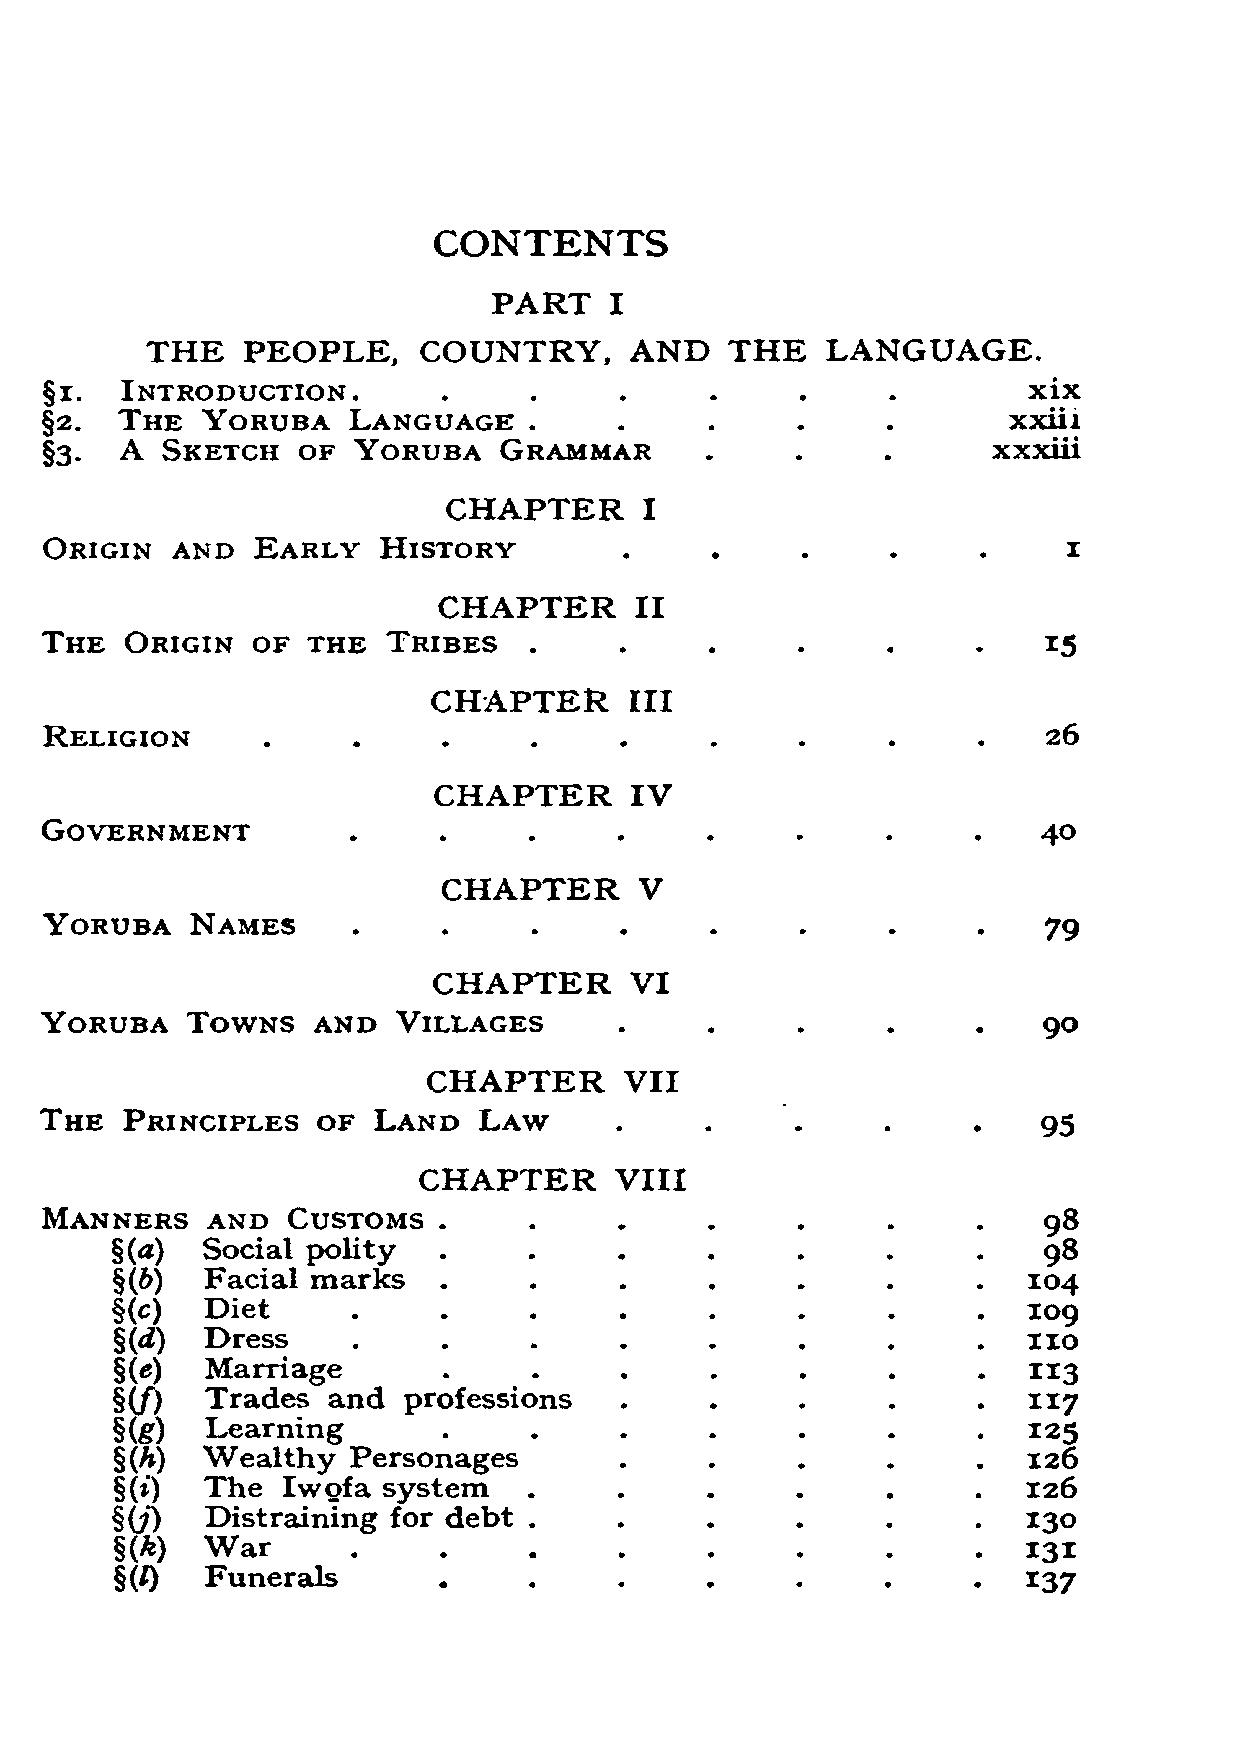TOC_chapter: (137, 285, 1049, 365), (34, 1104, 556, 1139), (39, 531, 518, 565), (38, 625, 510, 658), (36, 1007, 545, 1036), (52, 440, 656, 464), (56, 407, 521, 433), (42, 1202, 429, 1231), (201, 1385, 574, 1410), (416, 1161, 690, 1194), (428, 964, 672, 1000), (420, 1066, 683, 1099), (200, 1502, 517, 1529), (435, 870, 668, 905), (199, 1444, 519, 1468), (431, 780, 671, 812), (429, 686, 675, 717), (443, 491, 662, 525), (42, 911, 299, 939), (435, 592, 668, 621), (205, 1474, 491, 1496), (36, 816, 254, 845), (56, 382, 354, 403), (197, 1235, 399, 1263), (199, 1267, 408, 1290), (39, 723, 197, 750), (203, 1354, 345, 1384), (201, 1563, 344, 1593), (203, 1414, 346, 1443), (201, 1325, 293, 1350), (199, 1534, 272, 1559), (199, 1296, 276, 1318)
TOC_pagenumber: (988, 432, 1084, 463), (1024, 1357, 1082, 1386), (1023, 1300, 1084, 1327), (1006, 405, 1082, 427), (1027, 1565, 1076, 1597), (1023, 1508, 1074, 1537), (1024, 1272, 1086, 1295), (1041, 913, 1084, 945), (1039, 628, 1079, 662), (1037, 1113, 1082, 1142), (1027, 1420, 1080, 1444), (1024, 1478, 1080, 1500), (1024, 378, 1082, 400), (1037, 1013, 1083, 1040), (1039, 815, 1078, 845), (1027, 1448, 1079, 1471), (1024, 1393, 1079, 1414), (1024, 1539, 1078, 1561), (1040, 719, 1082, 746), (1024, 1333, 1080, 1351), (1044, 1236, 1078, 1266), (1043, 1206, 1083, 1231), (1064, 538, 1084, 560)
chapter: (431, 225, 675, 259)
